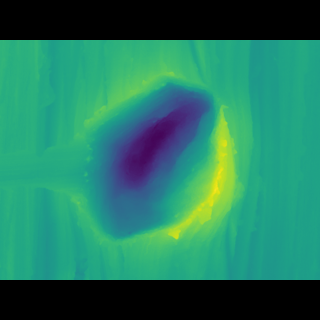Loch: (70, 90, 248, 229)
